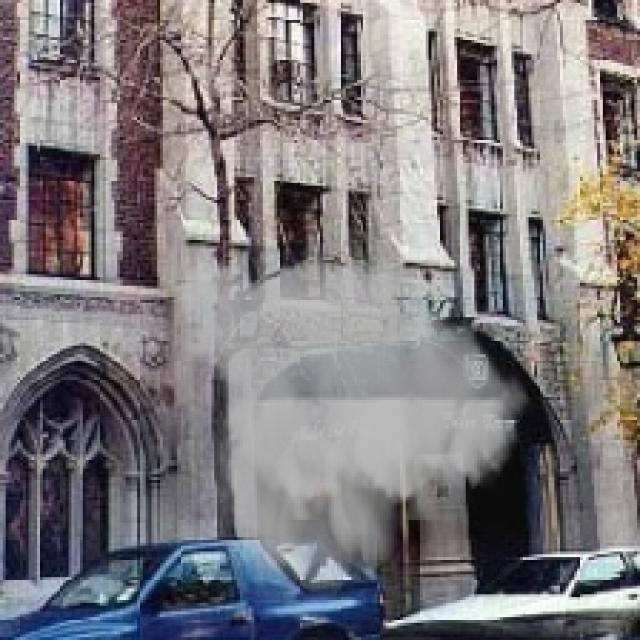Smoke: (157, 240, 540, 603)
